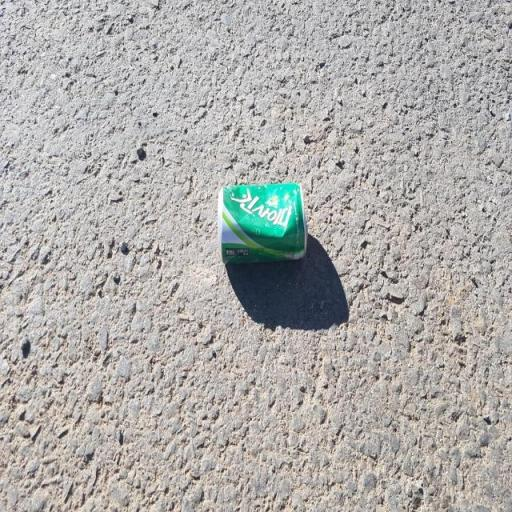metal: (211, 168, 332, 293)
